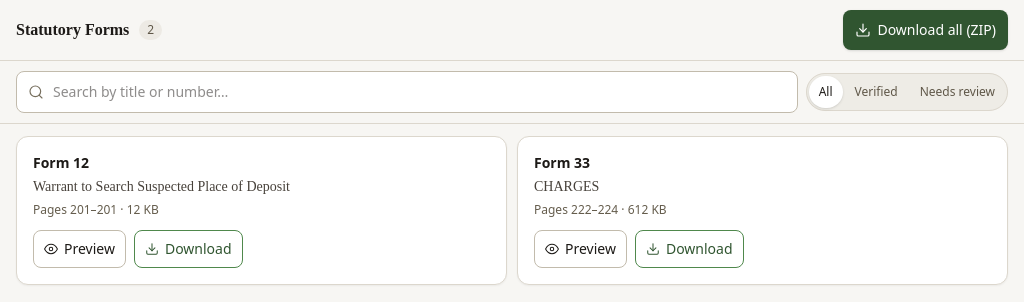
Test: FormsPanel › searches forms by query
This screenshot has width=1024, height=302.
Expected: the text "Form 12" is shown, [33, 153, 89, 173]
Type "warrant" into the search field named "Search forms".
click(407, 92); type("warrant")  # box [16, 71, 798, 113]
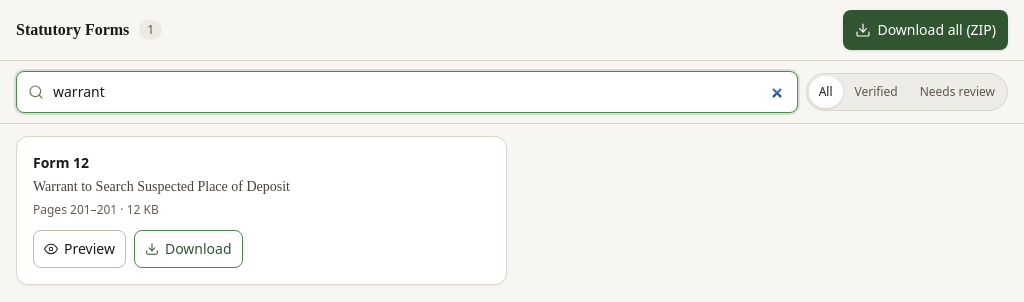
Expected: the text "Form 12" is shown, [33, 153, 89, 173]
Result: the text "Form 33" is gone
